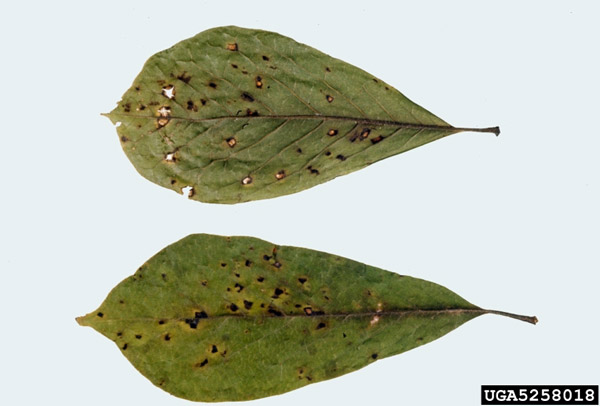unhealthy: (78, 17, 514, 223), (56, 239, 533, 406)
